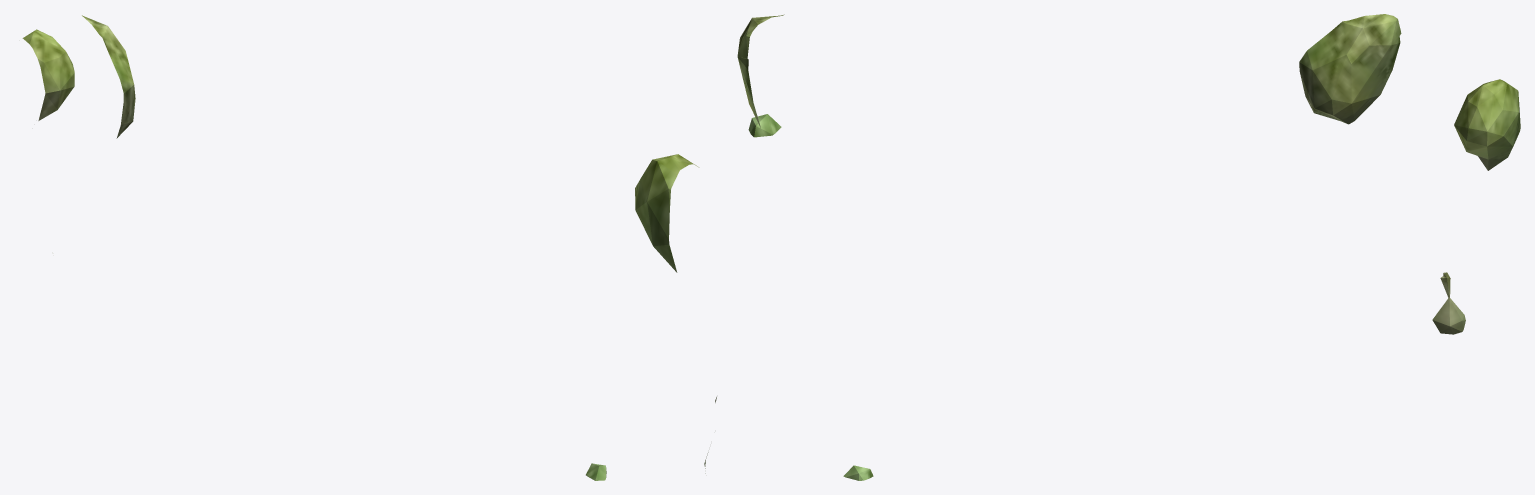
The picture shows the model from 3 angles, left to right: view 1: azimuth 30°, elevation 25°; view 2: azimuth 150°, elevation 25°; view 3: azimuth 270°, elevation 25°; orthographic projection. The views are drawn at different scales.
Size of the model in its own units: 2.48 by 2.96 by 5.42.
Materials: 1 (1 with a texture image).
